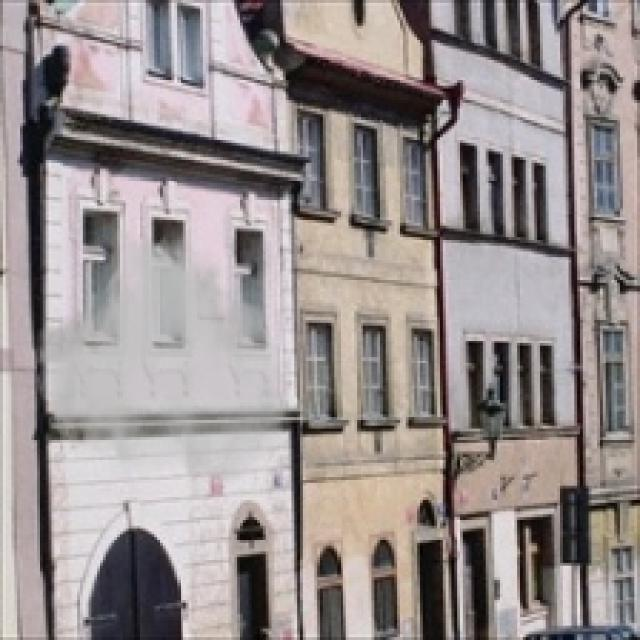smoke: (31, 223, 292, 491)
